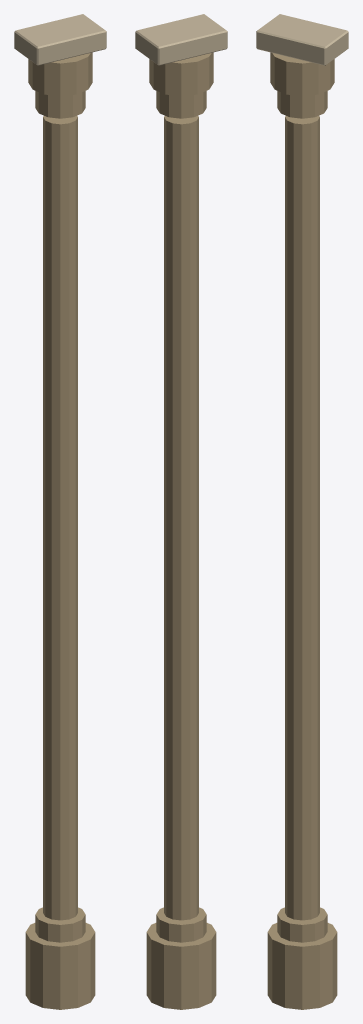
File: lib_column.glb
3 renders of one model, left to right at view 1: azimuth 30°, elevation 25°; view 2: azimuth 210°, elevation 25°; view 3: azimuth 330°, elevation 25°, orthographic.
Visible parts, largest first — view 1: column; view 2: column; view 3: column.
Boxes of the visible parts, bbox=[...] form: column: bbox=[14, 14, 106, 1009]; column: bbox=[135, 14, 227, 1009]; column: bbox=[256, 14, 348, 1009].
Size of the model in its own units: 0.58 by 7.63 by 0.5.
